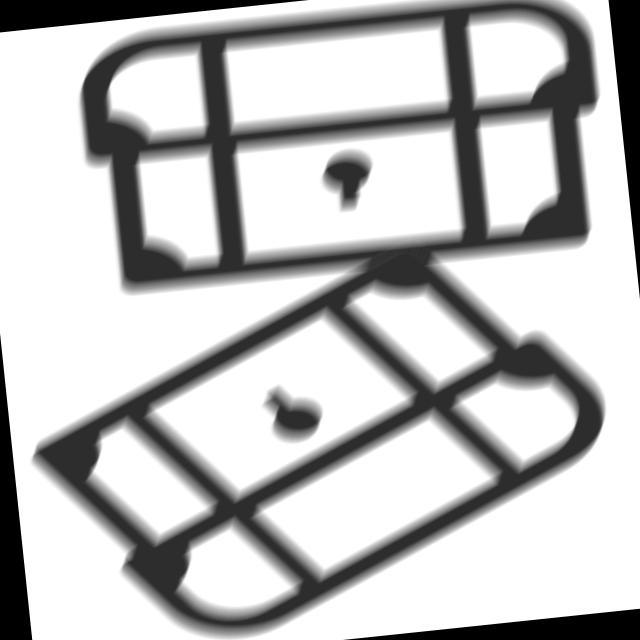treasure_box: (1, 209, 635, 640), (59, 1, 621, 305)
